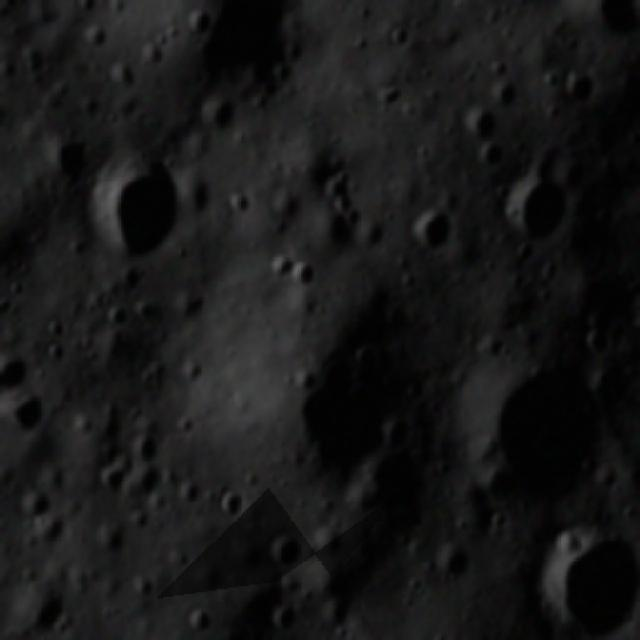crater: (460, 359, 611, 504), (268, 317, 402, 477), (533, 522, 638, 638), (90, 146, 193, 263), (487, 156, 584, 244), (352, 446, 442, 536), (396, 198, 464, 268), (14, 578, 84, 636), (43, 124, 102, 187), (6, 386, 57, 442), (192, 89, 245, 138), (260, 526, 305, 577), (91, 459, 134, 504), (250, 251, 299, 289), (284, 256, 325, 301), (121, 432, 164, 470), (179, 598, 224, 634), (209, 486, 249, 525), (463, 105, 499, 146), (562, 68, 598, 107), (95, 525, 130, 561), (179, 6, 215, 40), (490, 81, 524, 116), (81, 17, 113, 54), (126, 573, 160, 604)
